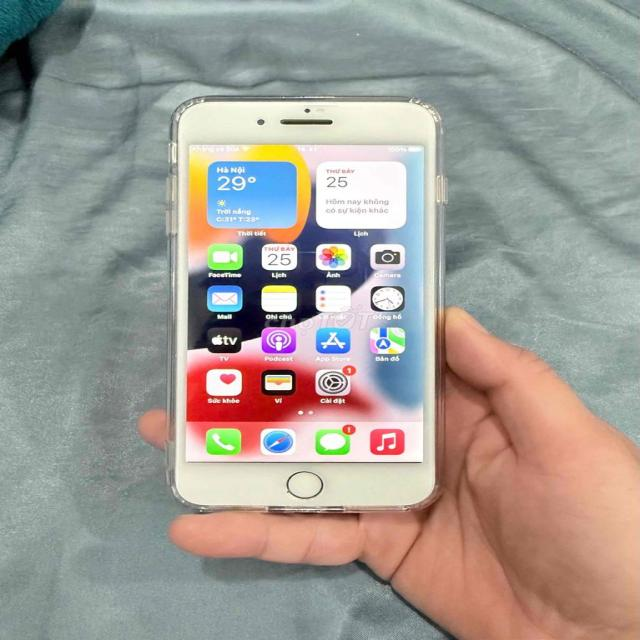gen_7_8: (166, 97, 446, 512)
